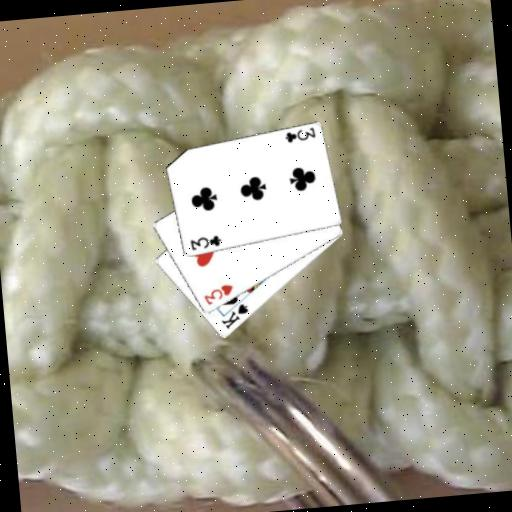3C: (187, 232, 223, 253), (281, 125, 317, 145)
3H: (199, 281, 236, 307)
KS: (217, 300, 252, 331)
